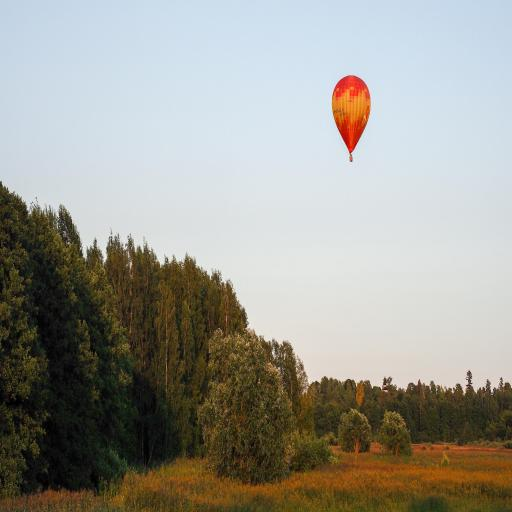hot air ballon: (331, 71, 372, 167)
